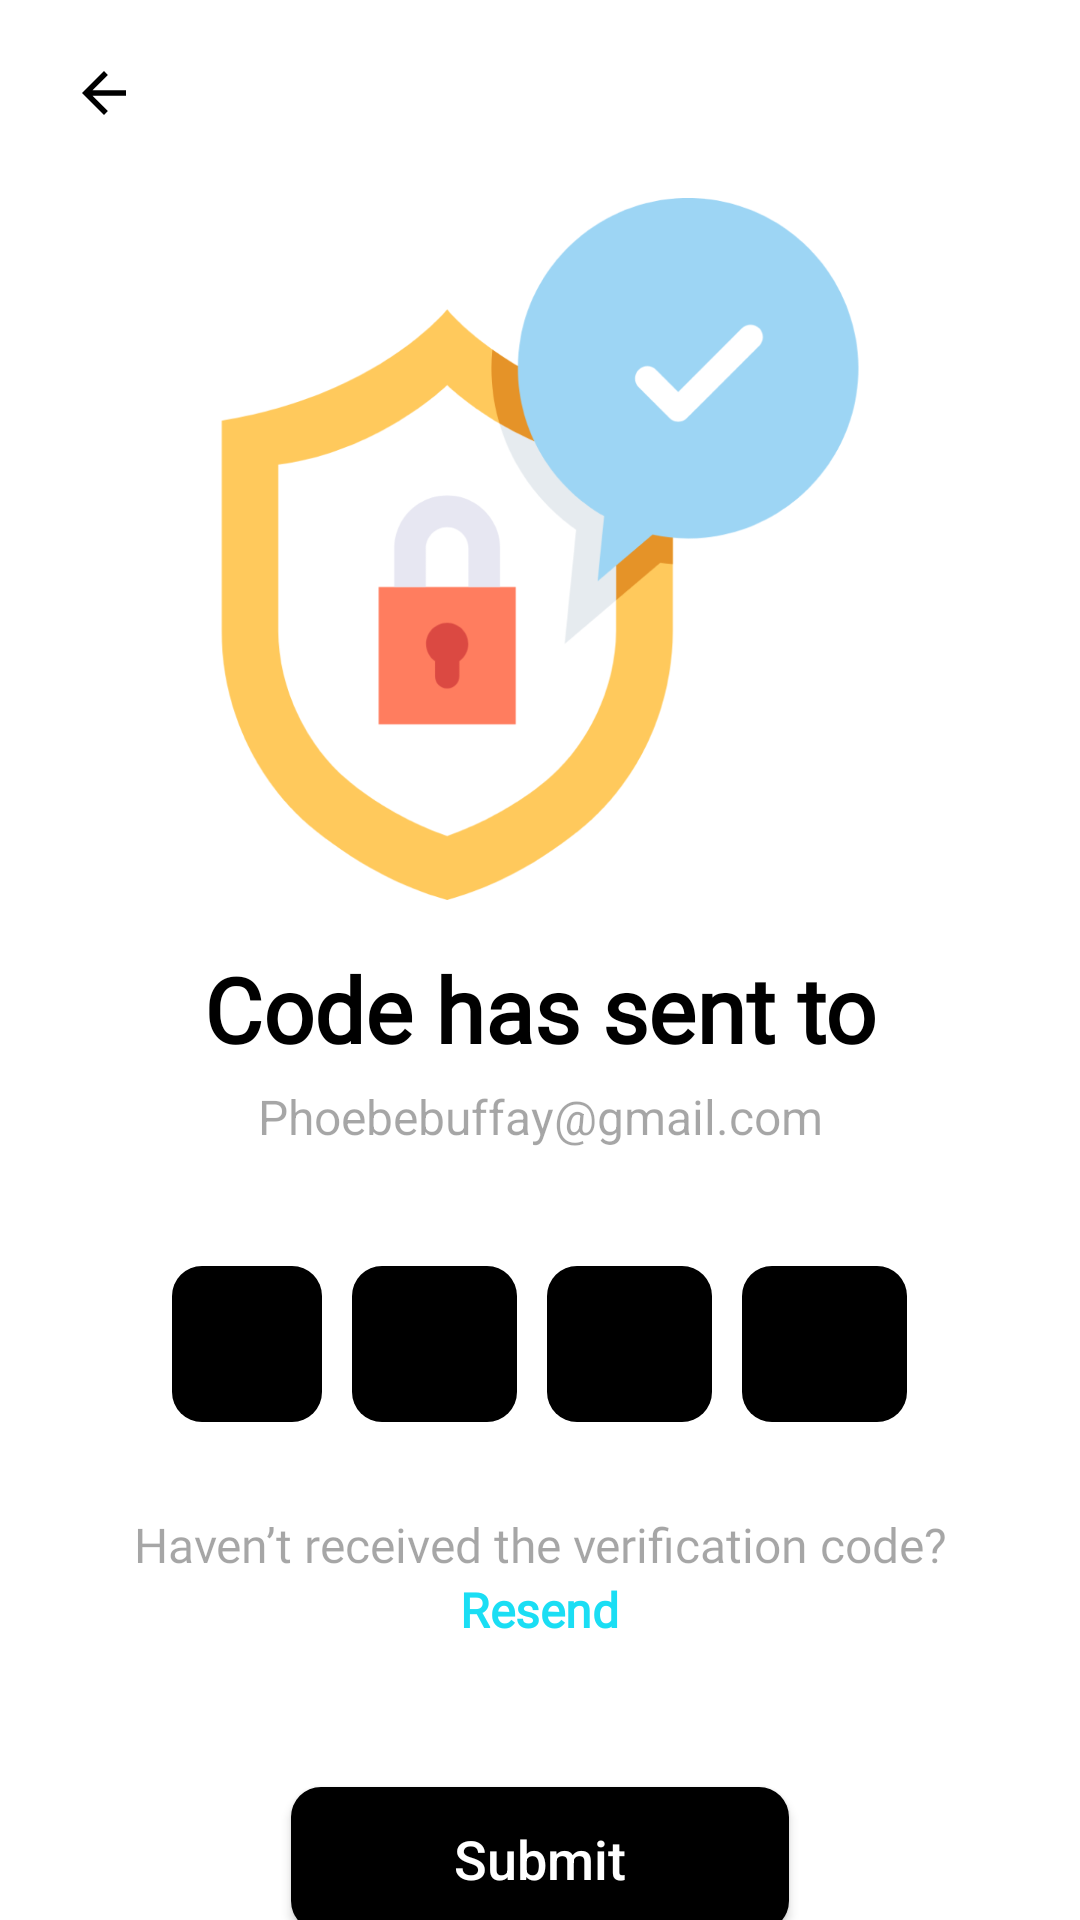

Icons on this 1080px x 1920px Android screen, each with its box as bbox=(x1, y1, x2, y2):
arrow back: bbox=(82, 71, 126, 115)
